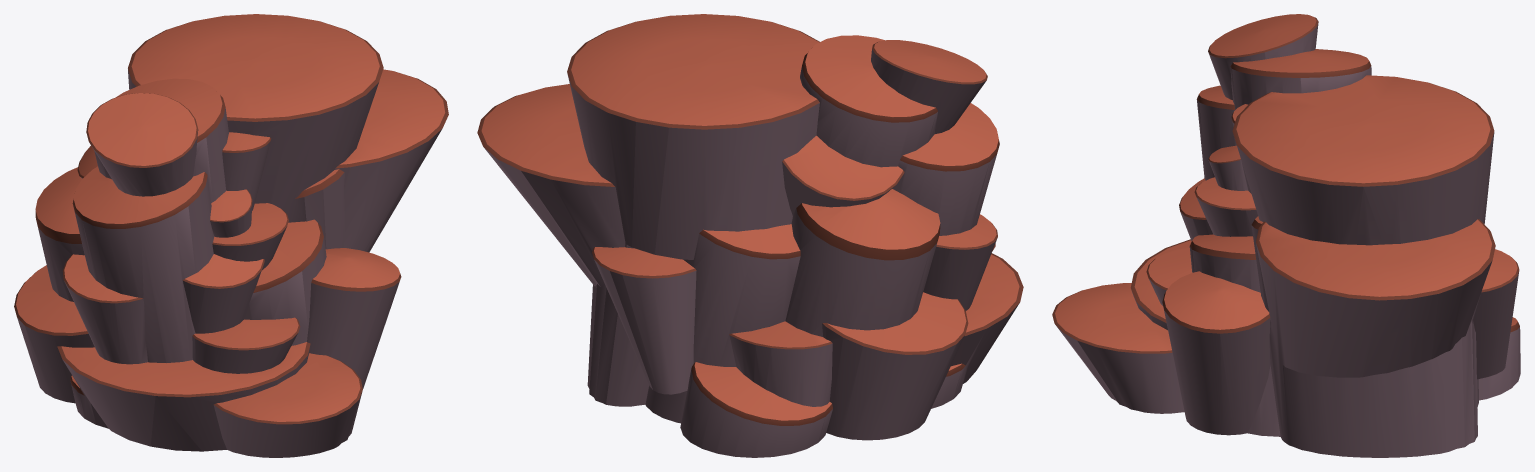
The model's file is Cliff3.fbx.
The picture shows the model from 3 angles, left to right: view 1: azimuth 30°, elevation 25°; view 2: azimuth 150°, elevation 25°; view 3: azimuth 270°, elevation 25°; orthographic projection. The views are drawn at different scales.
Parts seen in each view (by area): view 1: Model; view 2: Model; view 3: Model.
Boxes of the visible parts, x1=… form: Model: x1=14, y1=14, x2=448, y2=457; Model: x1=477, y1=14, x2=1023, y2=457; Model: x1=1052, y1=14, x2=1520, y2=457.
Bounding box in the file's own units: 5493 × 3827 × 5134.
